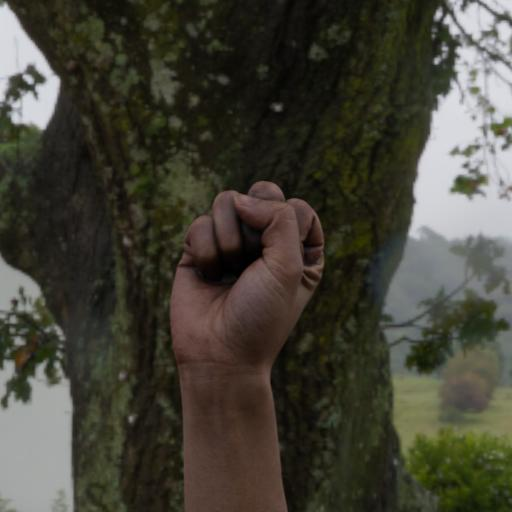S: (163, 174, 336, 372)
